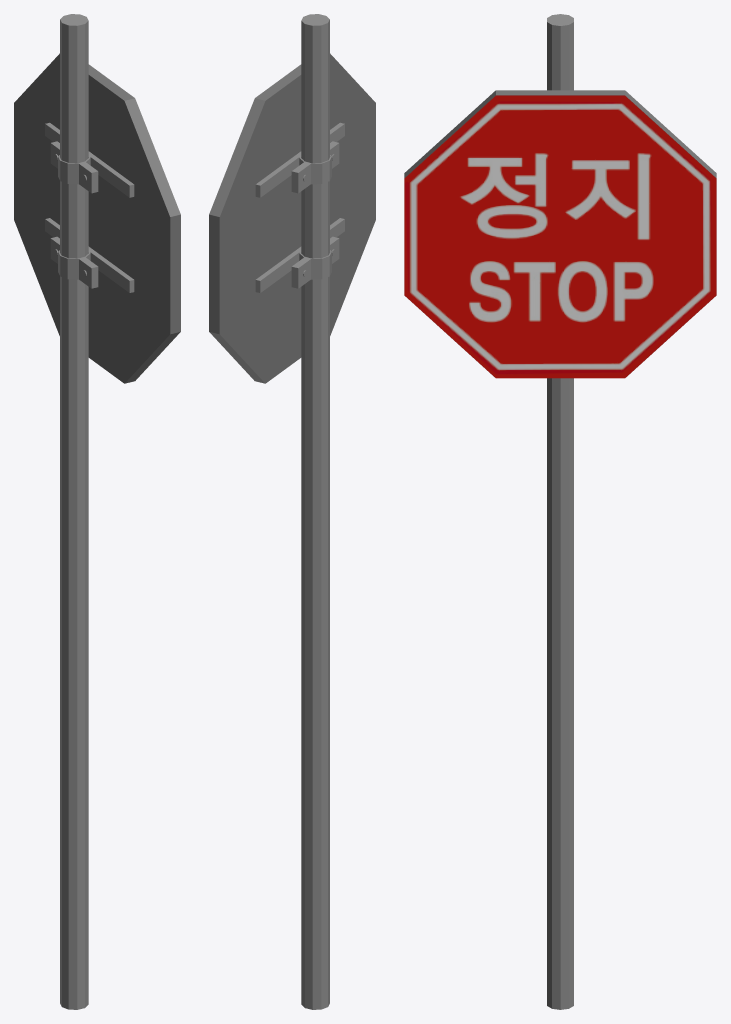
Rendered from obj_sign_5.fbx.
3 renders of one model, left to right at view 1: azimuth 30°, elevation 25°; view 2: azimuth 150°, elevation 25°; view 3: azimuth 270°, elevation 25°, orthographic.
Parts seen in each view (by area): view 1: obj_sign_5; view 2: obj_sign_5; view 3: obj_sign_5.
Part boxes in pixels (x1,y1,x2,y2): obj_sign_5: [14, 14, 180, 1009]; obj_sign_5: [209, 14, 375, 1009]; obj_sign_5: [404, 14, 716, 1009].
Bounding box in the file's own units: 0.1083 × 2.39 × 0.6868.
1 material, 1 textured.
